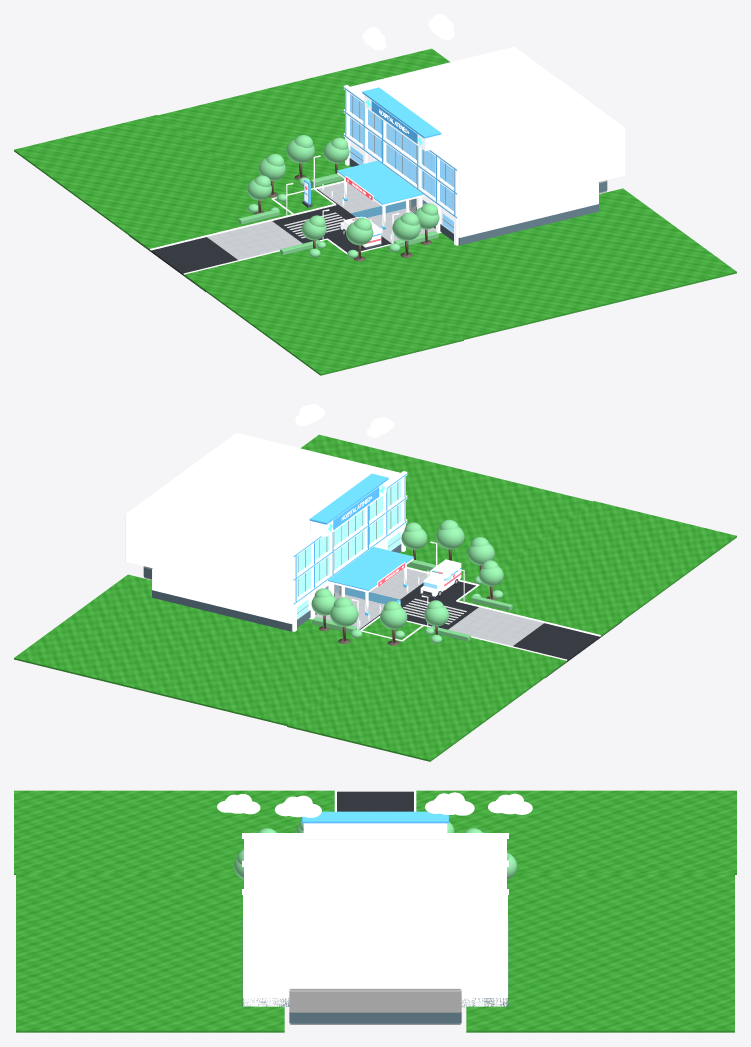
File: hospital_ward.glb
3 views of the same model, one above another, from view 1: azimuth 30°, elevation 25°; view 2: azimuth 150°, elevation 25°; view 3: azimuth 270°, elevation 25° (orthographic). The views are drawn at different scales.
Visible parts, largest first — view 1: Campus_Lawn_MainRight, Hospital_UpperCore, Campus_Lawn_FrontRight, Campus_Lawn_FrontLeft, Campus_Lawn_MainLeft, Exterior_AsphaltRoad, Hospital_GroundWing_SouthWing, Hospital_CurtainWall_West, Exterior_ArrivalPlaza, Canopy_UpperTrim, Exterior_SidewalkPlaza, Hospital_WingPlinth_SouthWing (+4 smaller); view 2: Campus_Lawn_MainLeft, Hospital_UpperCore, Campus_Lawn_FrontLeft, Campus_Lawn_FrontRight, Campus_Lawn_MainRight, Exterior_AsphaltRoad, Hospital_GroundWing_NorthWing, Hospital_CurtainWall_West, Exterior_ArrivalPlaza, Canopy_UpperTrim, Exterior_SidewalkPlaza, Hospital_WingPlinth_NorthWing (+3 smaller); view 3: Hospital_UpperCore, Campus_Lawn_MainLeft, Campus_Lawn_MainRight, Campus_Lawn_FrontRight, Campus_Lawn_FrontLeft, Wall_Upper_East, Hospital_CrownTower, Wall_Wainscot_East, Hospital_CrownCap, Exterior_AsphaltRoad, Hospital_GroundWing_SouthWing, Hospital_GroundWing_NorthWing (+2 smaller).
Part boxes in pixels (<box>): Campus_Lawn_MainRight: <box>358,188,736,339</box>; Hospital_UpperCore: <box>350,46,625,215</box>; Campus_Lawn_FrontRight: <box>184,240,463,375</box>; Campus_Lawn_FrontLeft: <box>14,115,291,250</box>; Campus_Lawn_MainLeft: <box>158,48,450,198</box>; Exterior_AsphaltRoad: <box>129,189,391,291</box>; Hospital_GroundWing_SouthWing: <box>441,182,598,237</box>; Hospital_CurtainWall_West: <box>350,94,453,210</box>; Exterior_ArrivalPlaza: <box>207,221,302,259</box>; Canopy_UpperTrim: <box>337,160,422,204</box>; Exterior_SidewalkPlaza: <box>317,182,435,243</box>; Hospital_WingPlinth_SouthWing: <box>440,204,598,245</box>; Campus_Lawn_MainLeft: <box>14,574,401,725</box>; Hospital_UpperCore: <box>125,433,400,601</box>; Campus_Lawn_FrontLeft: <box>287,626,566,761</box>; Campus_Lawn_FrontRight: <box>459,501,736,636</box>; Campus_Lawn_MainRight: <box>301,434,592,583</box>; Exterior_AsphaltRoad: <box>359,581,621,677</box>; Hospital_GroundWing_NorthWing: <box>152,568,309,623</box>; Hospital_CurtainWall_West: <box>297,480,400,597</box>; Exterior_ArrivalPlaza: <box>448,607,543,646</box>; Canopy_UpperTrim: <box>328,547,414,590</box>; Exterior_SidewalkPlaza: <box>315,568,429,629</box>; Hospital_WingPlinth_NorthWing: <box>152,590,310,631</box>; Hospital_UpperCore: <box>245,837,505,988</box>; Campus_Lawn_MainLeft: <box>466,873,734,1032</box>; Campus_Lawn_MainRight: <box>16,873,284,1032</box>; Campus_Lawn_FrontRight: <box>14,790,334,874</box>; Campus_Lawn_FrontLeft: <box>416,790,736,874</box>; Wall_Upper_East: <box>290,990,460,1012</box>; Hospital_CrownTower: <box>303,823,447,839</box>; Wall_Wainscot_East: <box>290,1012,460,1023</box>; Hospital_CrownCap: <box>302,811,448,823</box>; Exterior_AsphaltRoad: <box>337,791,413,811</box>; Hospital_GroundWing_SouthWing: <box>243,893,289,1007</box>; Hospital_GroundWing_NorthWing: <box>461,893,507,1007</box>.
Bounding box in the file's own units: 60 × 20.53 × 76.4.
Materials: 42 (4 with a texture image).
